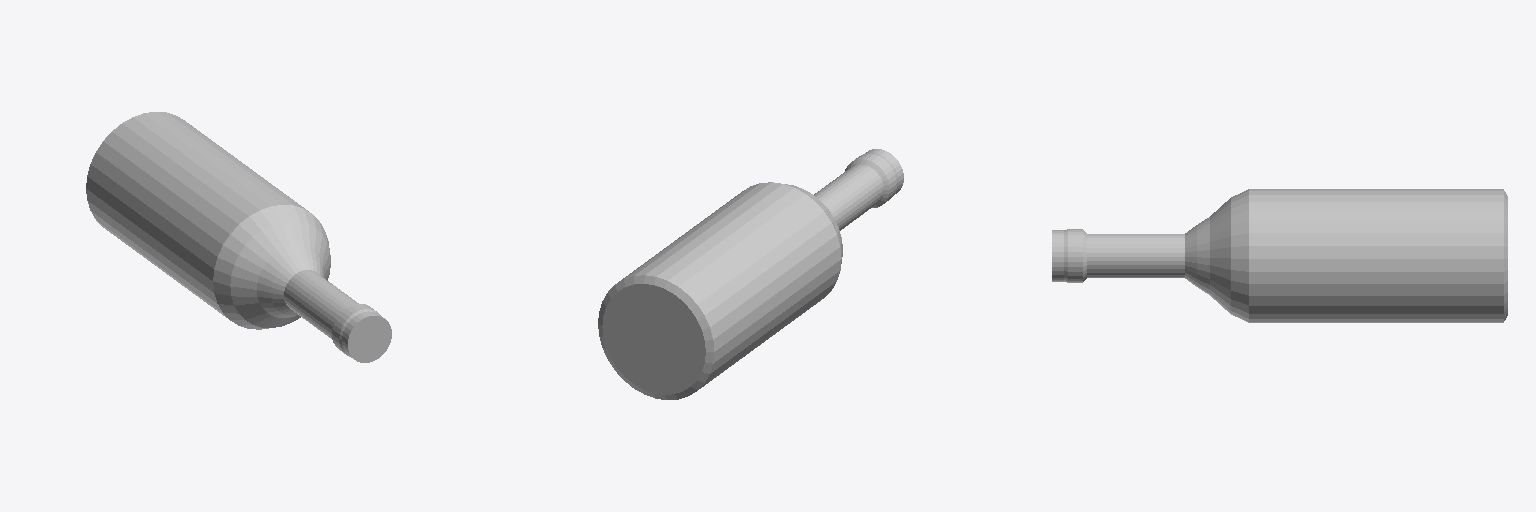
File: wine.obj
3 views of the same model, side by side, from view 1: azimuth 30°, elevation 25°; view 2: azimuth 150°, elevation 25°; view 3: azimuth 270°, elevation 25° (orthographic).
Parts seen in each view (by area): view 1: Circle_Circle.001; view 2: Circle_Circle.001; view 3: Circle_Circle.001.
Boxes of the visible parts, x1,y1,x2,y2 form: Circle_Circle.001: [86, 112, 391, 362]; Circle_Circle.001: [598, 149, 903, 399]; Circle_Circle.001: [1052, 189, 1507, 322].
Size of the model in its own units: 2.25 by 2.25 by 7.62.